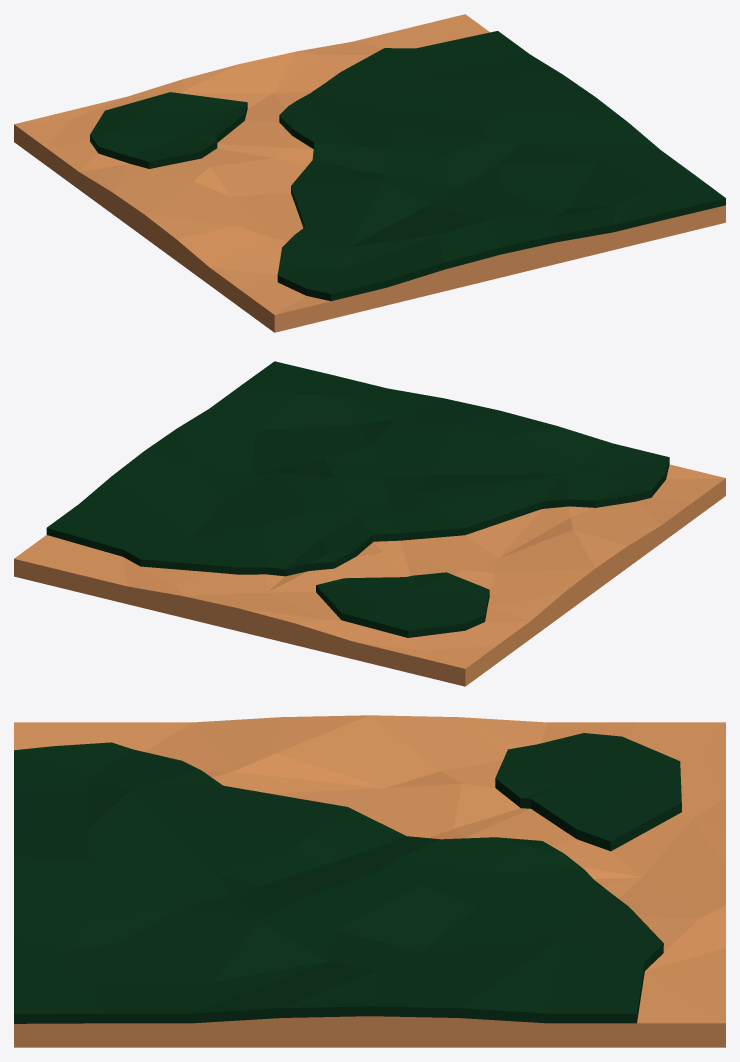
The model's file is Road_green_7.FBX.
The picture shows the model from 3 angles, top to bottom: view 1: azimuth 30°, elevation 25°; view 2: azimuth 150°, elevation 25°; view 3: azimuth 270°, elevation 25°; orthographic projection. The views are drawn at different scales.
Visible parts, largest first — view 1: Road_green_7; view 2: Road_green_7; view 3: Road_green_7.
Part boxes in pixels (x1=…): Road_green_7: x1=14, y1=14, x2=725, y2=332; Road_green_7: x1=14, y1=361, x2=725, y2=686; Road_green_7: x1=14, y1=715, x2=725, y2=1047.
Size of the model in its own units: 1.5 by 0.1065 by 1.5.
1 material, 1 textured.
